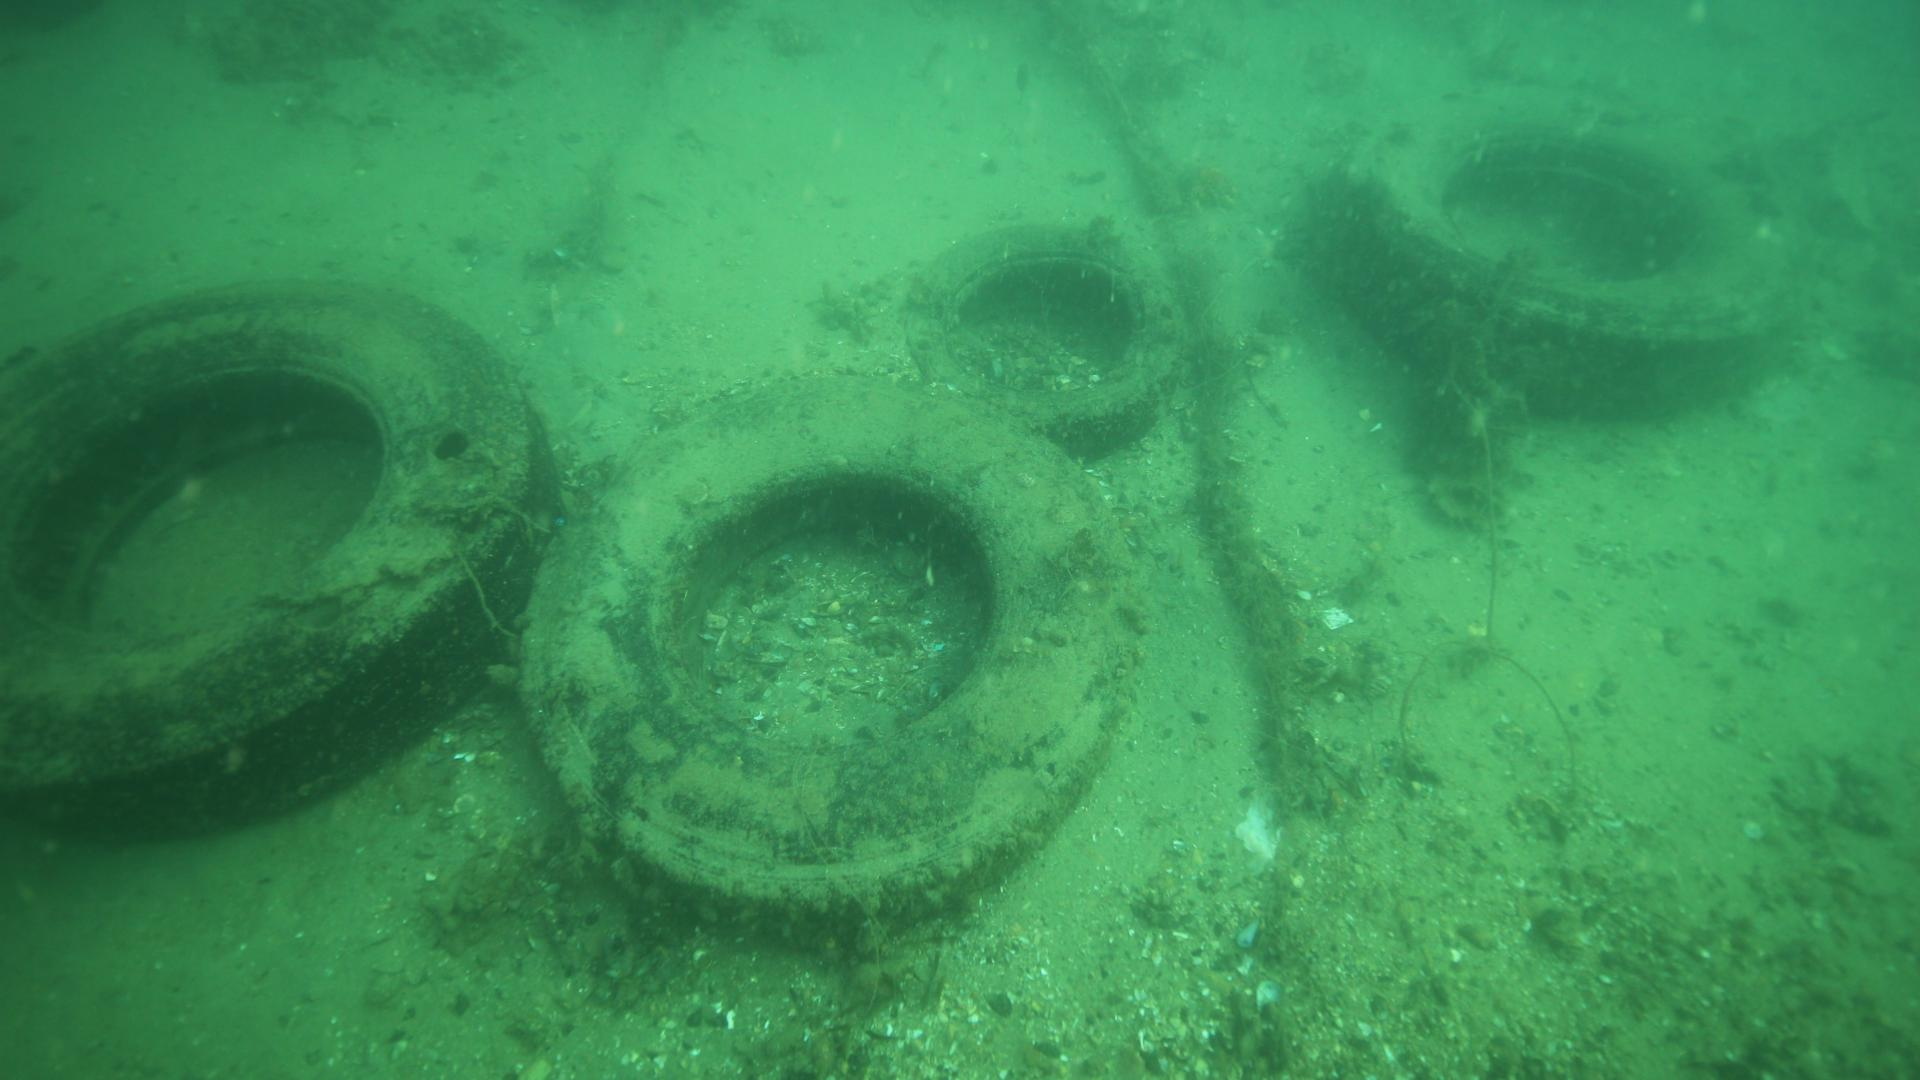tire: (527, 371, 1127, 942), (1, 280, 553, 841), (1354, 82, 1796, 425), (886, 214, 1189, 455)
